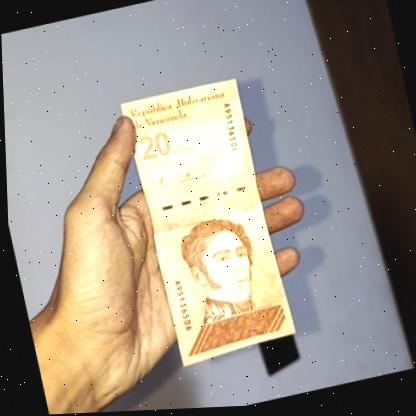twenty-front-vef: (116, 76, 295, 372)
